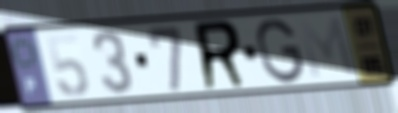3: (91, 28, 135, 98)
5: (43, 31, 91, 99)
7: (143, 23, 187, 94)
G: (254, 17, 306, 86)
M: (295, 13, 361, 83)
R: (191, 18, 250, 94)
